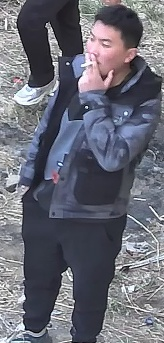smoking: (66, 38, 140, 172)
